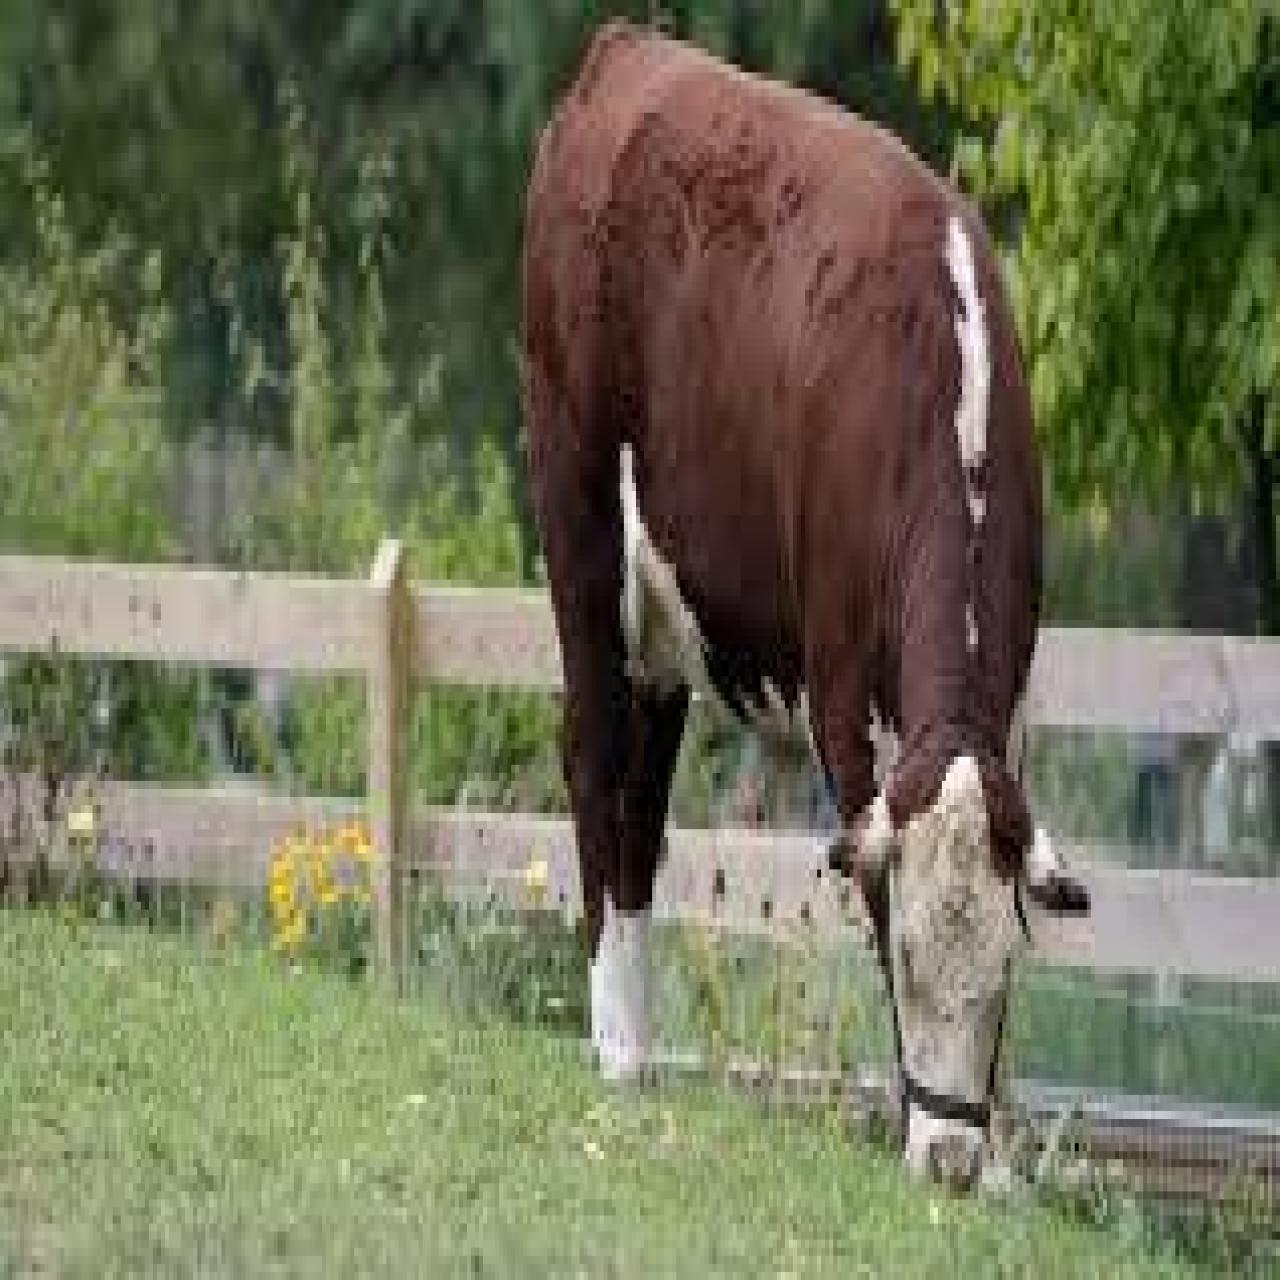cow: (523, 20, 1091, 1204)
